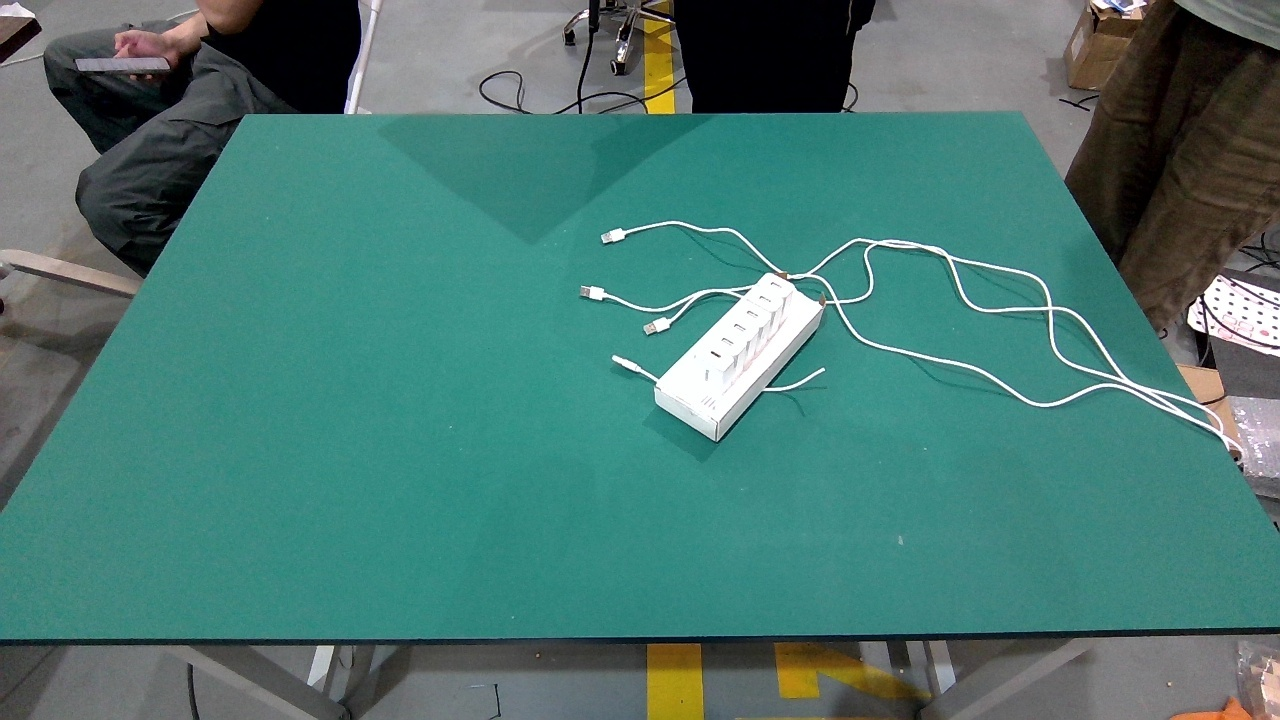usb_a_port: (720, 337, 734, 345), (746, 310, 759, 318), (734, 324, 746, 332), (759, 295, 771, 303), (770, 282, 783, 289), (710, 350, 721, 358)
